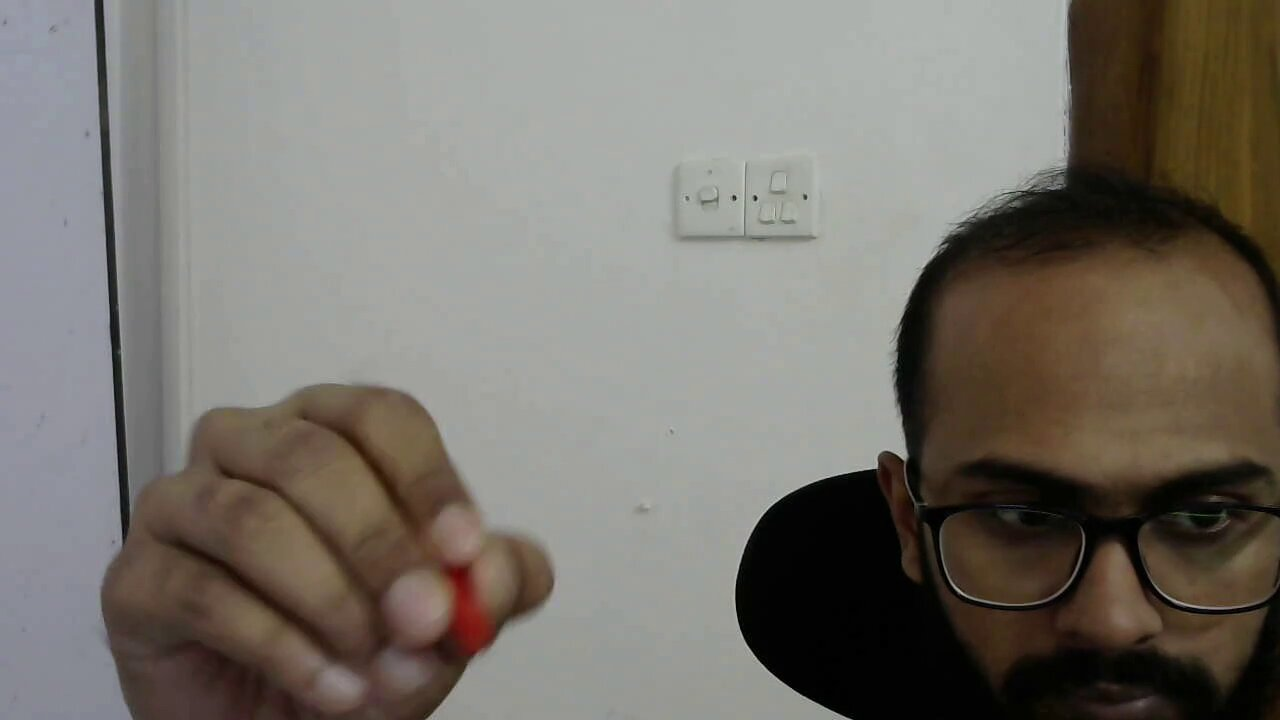pointer: (99, 383, 559, 720)
